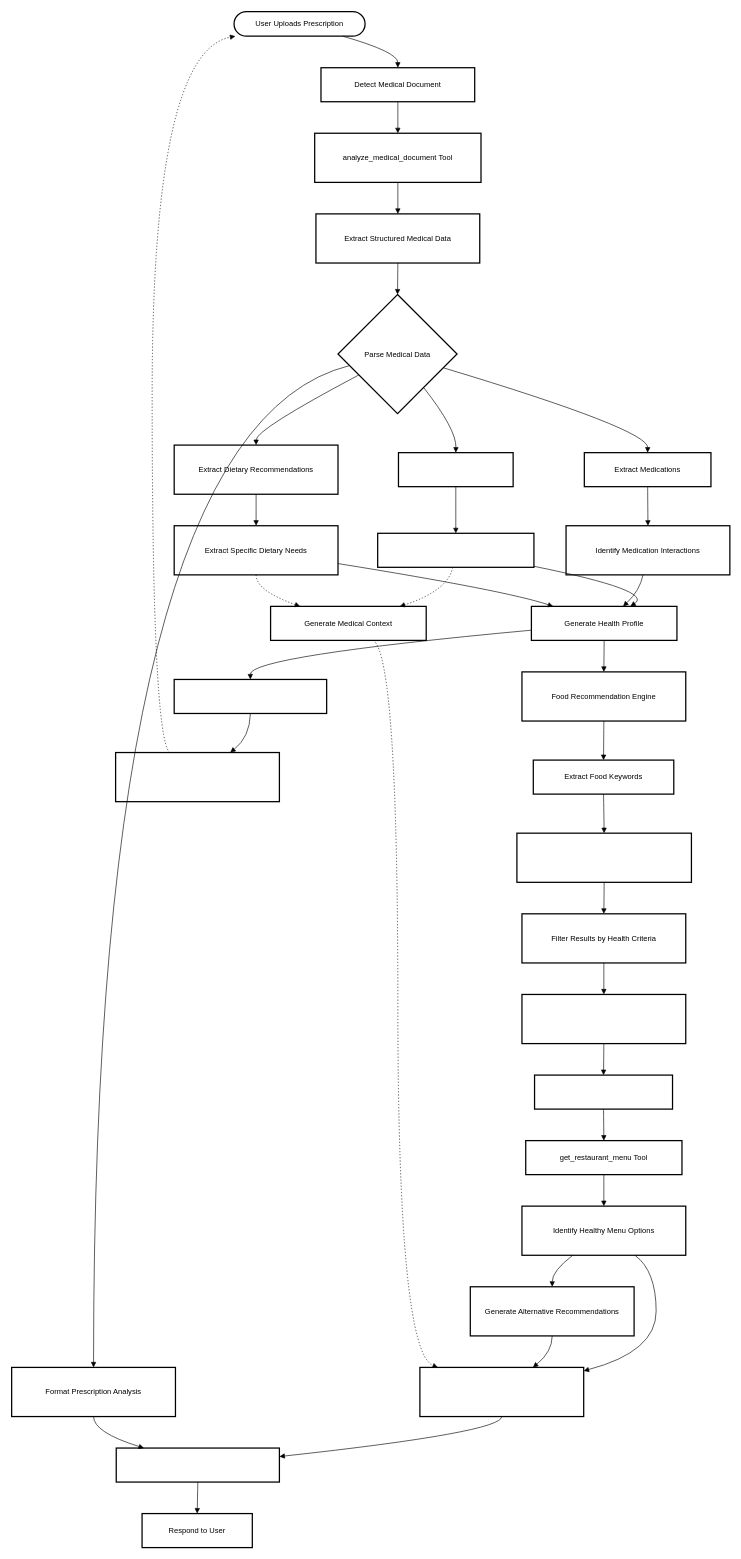
The diagram is 741 pixels wide and 1559 high, and some of its shapes have lost their labels. The shapes that lost their labels are listed below. From the top down, each one's centre as x and y in pixels, then its label:
At [455,469]: "Extract Diagnosis".
At [455,550]: "Identify Medical Condition".
At [250,696]: "Store in User Preferences".
At [197,777]: "Available for Future Queries".
At [604,857]: "search_food_items_enhanced Tool".
At [603,1019]: "Rank by Health Compatibility".
At [603,1091]: "Extract Restaurant IDs".
At [501,1391]: "Format Results with Health Context".
At [197,1464]: "Create Structured Response".
